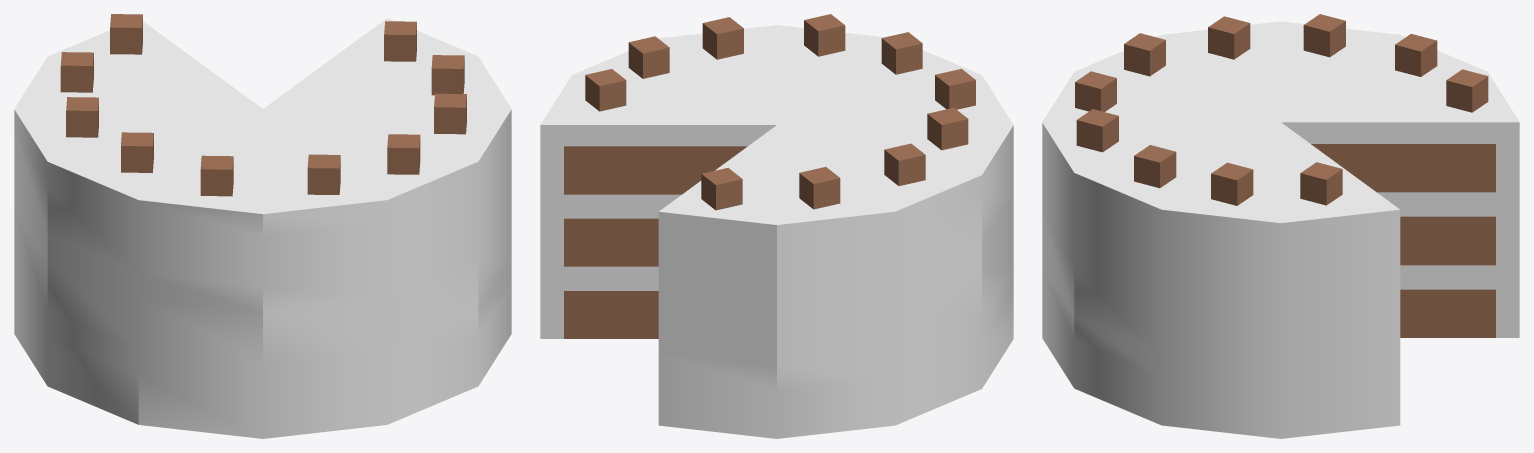
The model's file is CandylandCake_07.fbx.
3 views of the same model, side by side, from view 1: azimuth 30°, elevation 25°; view 2: azimuth 150°, elevation 25°; view 3: azimuth 270°, elevation 25° (orthographic). The views are drawn at different scales.
Visible parts, largest first — view 1: CandylandCake_07; view 2: CandylandCake_07; view 3: CandylandCake_07.
Part boxes in pixels (x1,y1,x2,y2): CandylandCake_07: (14, 14, 511, 438); CandylandCake_07: (540, 14, 1013, 438); CandylandCake_07: (1042, 14, 1519, 438).
Bounding box in the file's own units: 1.34 × 0.747 × 1.34.
